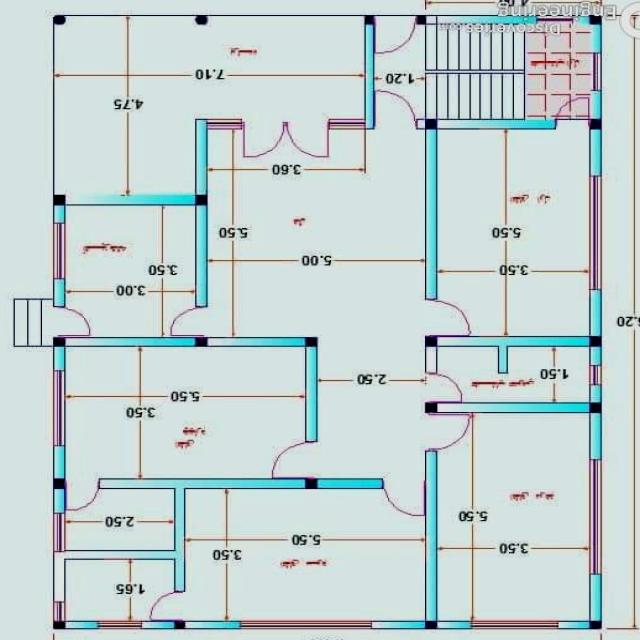column: (586, 400, 604, 416), (422, 400, 440, 416), (423, 333, 441, 349), (422, 116, 440, 132), (192, 12, 212, 26), (50, 476, 68, 491), (304, 476, 320, 492), (302, 336, 320, 350), (586, 119, 604, 132), (51, 13, 69, 26), (588, 334, 604, 348), (362, 13, 378, 27), (193, 193, 209, 207), (170, 619, 188, 631), (192, 336, 210, 348), (52, 192, 66, 207), (587, 13, 603, 26), (587, 619, 604, 631), (51, 618, 68, 630), (424, 620, 440, 632), (413, 14, 429, 26), (51, 336, 67, 348)
